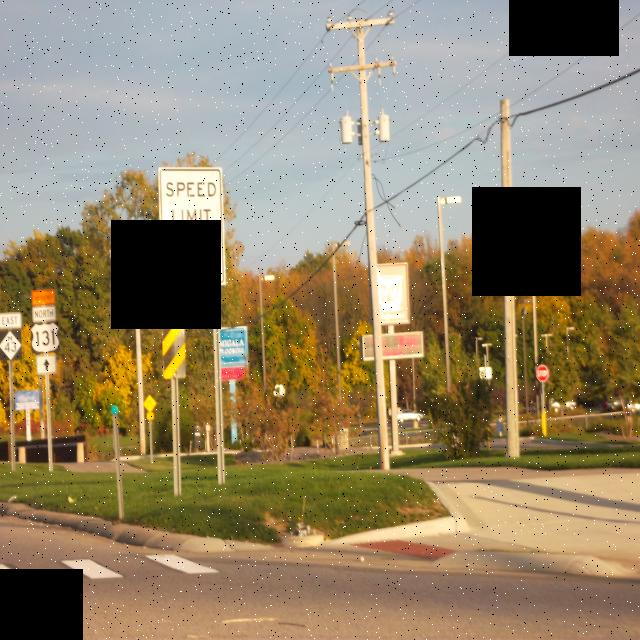regulatory: (158, 167, 227, 288), (160, 168, 224, 286)
stop: (535, 362, 551, 386)
warning: (142, 392, 157, 414)
